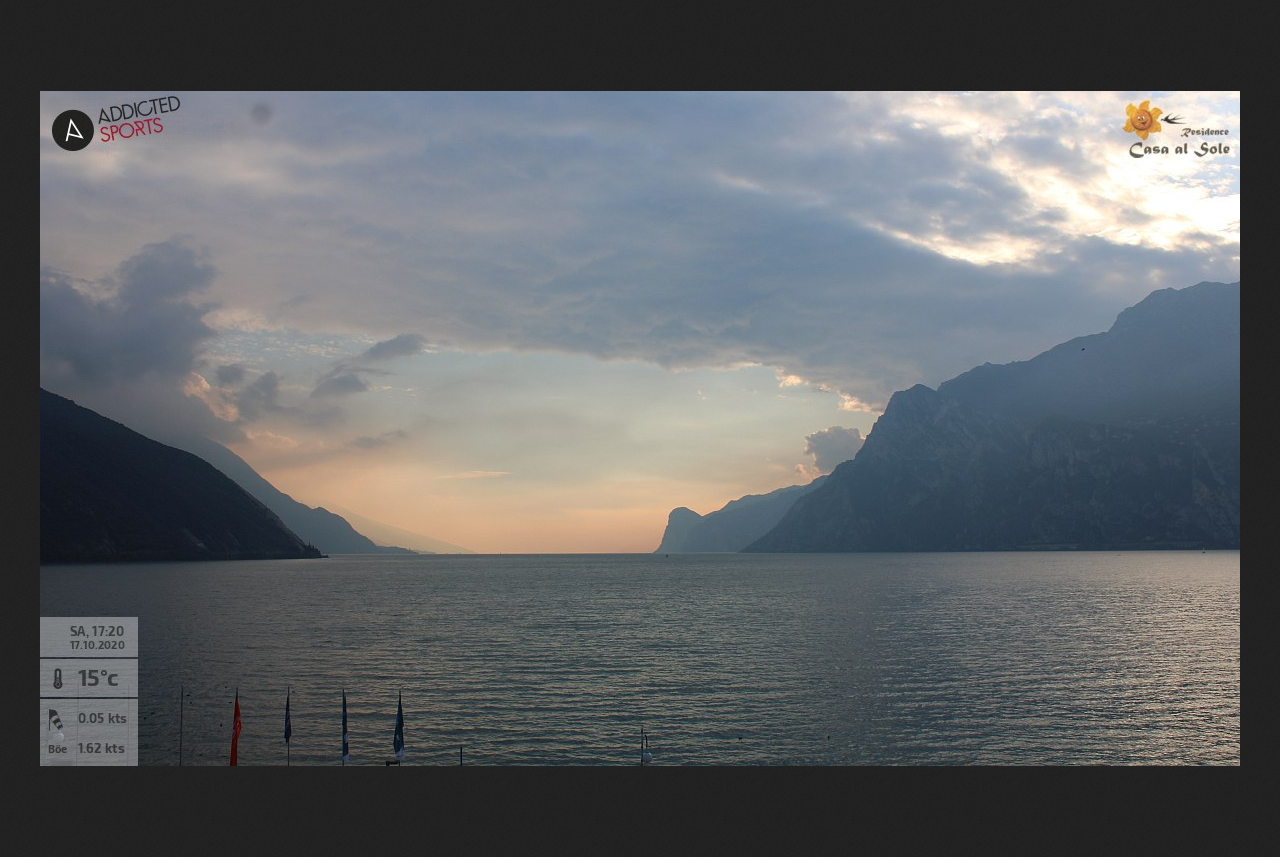no: (223, 691, 245, 766), (333, 683, 351, 763), (390, 687, 409, 761), (277, 688, 294, 744)
